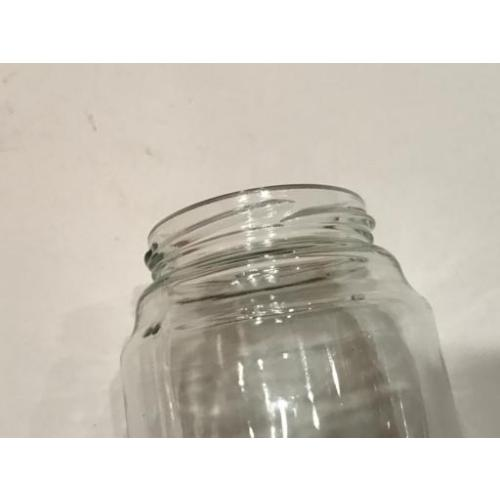glass: (129, 183, 460, 437)
